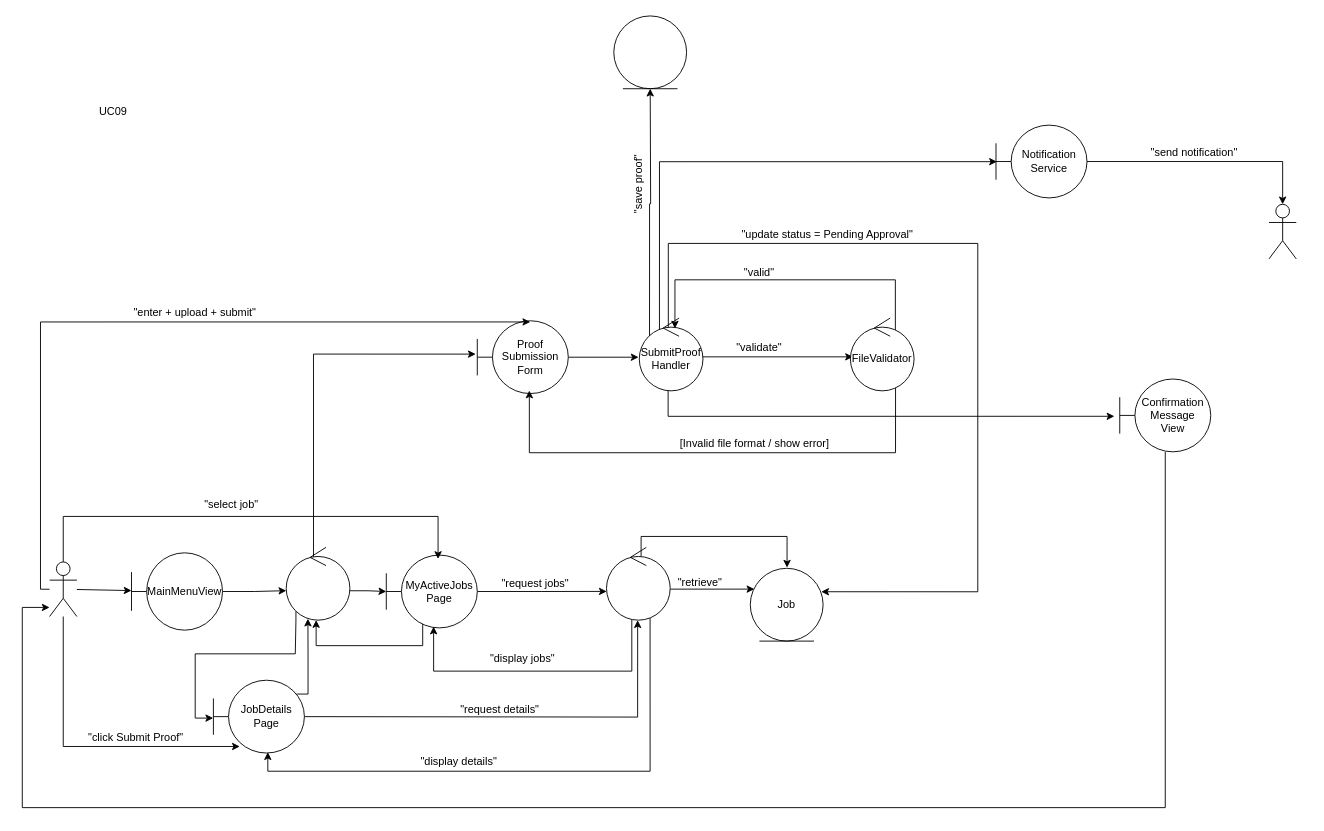
Image size: 1324x831. Some labels were removed from this diagram. The shapes that lost their labels are listed below. From the top down, each one's centre as x and y in pixels, then its label:
At (650,52): "Proof".
At (1282,231): "Job Poster".
At (63,589): "Job Seeker".
At (317,583): "Navigation Controller".
At (638,583): "Job Controller".
